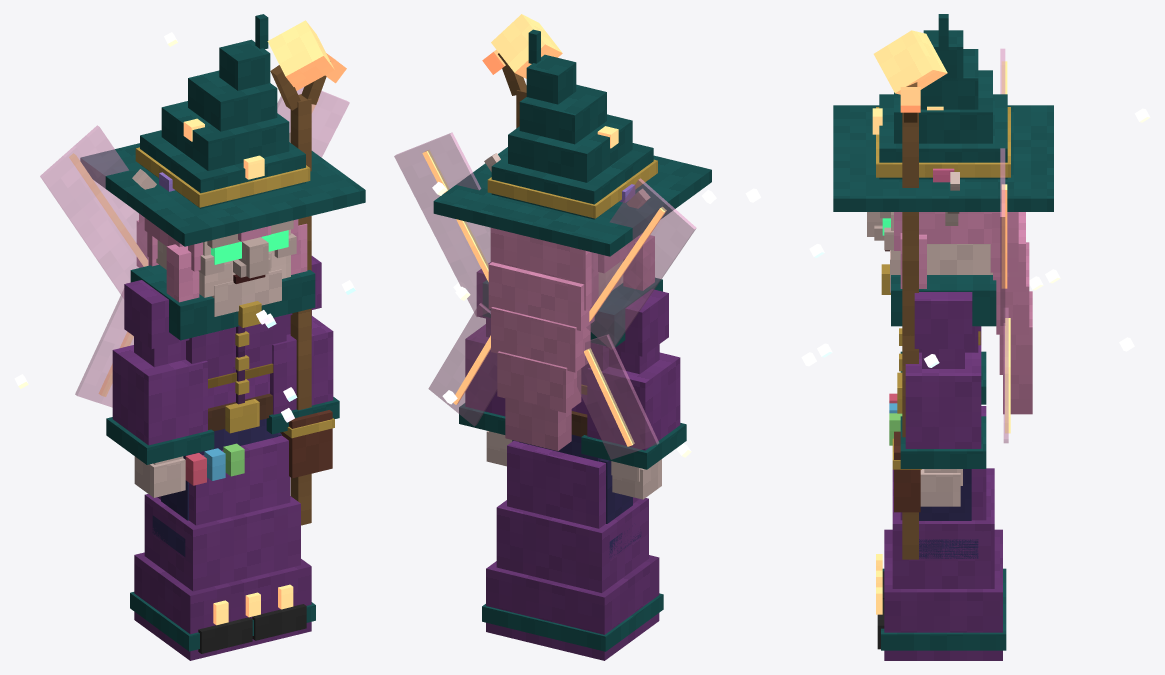
File: fairy_mage_v2.glb
3 renders of one model, left to right at view 1: azimuth 30°, elevation 25°; view 2: azimuth 150°, elevation 25°; view 3: azimuth 270°, elevation 25°, orthographic. The views are drawn at different scales.
Parts seen in each view (by area): view 1: Head, Torso, Root, ArmR, HandL, ArmL, LegR, LegL; view 2: Head, Root, Torso, ArmR, ArmL, HandL, LegR; view 3: Head, Root, ArmL, Torso, HandL, LegL.
Part boxes in pixels (left/top/right/bottom): Head: left=80, top=14, right=365, bottom=316; Torso: left=14, top=32, right=355, bottom=485; Root: left=130, top=435, right=315, bottom=660; ArmR: left=106, top=280, right=214, bottom=497; HandL: left=267, top=20, right=346, bottom=525; ArmL: left=266, top=256, right=339, bottom=434; LegR: left=152, top=453, right=252, bottom=653; LegL: left=252, top=432, right=306, bottom=640; Head: left=433, top=29, right=711, bottom=450; Root: left=482, top=441, right=663, bottom=660; Torso: left=394, top=132, right=716, bottom=461; ArmR: left=581, top=289, right=686, bottom=499; ArmL: left=459, top=262, right=512, bottom=466; HandL: left=482, top=14, right=562, bottom=128; LegR: left=598, top=458, right=641, bottom=557; Head: left=833, top=14, right=1053, bottom=414; Root: left=876, top=406, right=1006, bottom=660; ArmL: left=900, top=292, right=986, bottom=506; Torso: left=745, top=48, right=1150, bottom=512; HandL: left=873, top=30, right=947, bottom=559; LegL: left=877, top=469, right=978, bottom=649.
Bounding box in the file's own units: 0.7287 × 1.32 × 0.7622.
50 materials, 50 textured.
